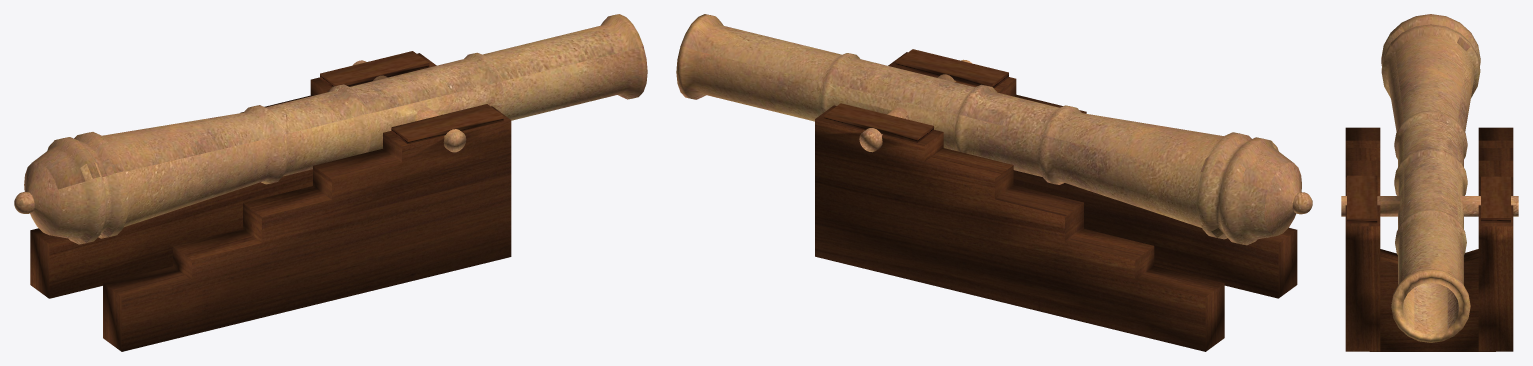
Rendered from nemesisCannon.fbx.
3 views of the same model, side by side, from view 1: azimuth 30°, elevation 25°; view 2: azimuth 150°, elevation 25°; view 3: azimuth 270°, elevation 25° (orthographic). The views are drawn at different scales.
Parts seen in each view (by area): view 1: pasted__pasted__pCube5, pCylinder9, pCube6, pasted__pCube6; view 2: pasted__pasted__pCube5, pCylinder9, pCube6, pasted__pCube6; view 3: pCylinder9, pasted__pasted__pCube5, pCube6, pasted__pCube6.
Boxes of the visible parts, x1,y1,x2,y2 form: pasted__pasted__pCube5: (30,53,511,351); pCylinder9: (14,14,647,244); pCube6: (391,104,503,144); pasted__pCube6: (320,51,429,86); pasted__pasted__pCube5: (815,52,1297,351); pCylinder9: (676,14,1312,245); pCube6: (896,49,1008,88); pasted__pCube6: (824,103,933,142); pCylinder9: (1341,14,1518,342); pasted__pasted__pCube5: (1345,127,1513,351); pCube6: (1347,175,1377,223); pasted__pCube6: (1481,176,1510,222).
Size of the model in its own units: 18.87 by 5.2 by 5.16.
